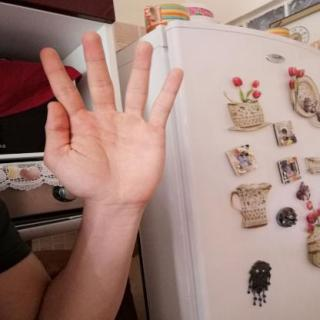SHEEN: (22, 23, 193, 210)
